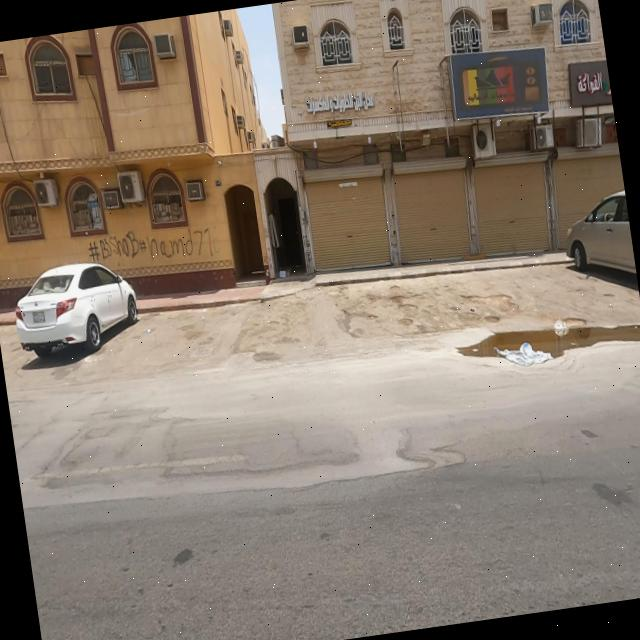Graffiti: (88, 219, 224, 275)
